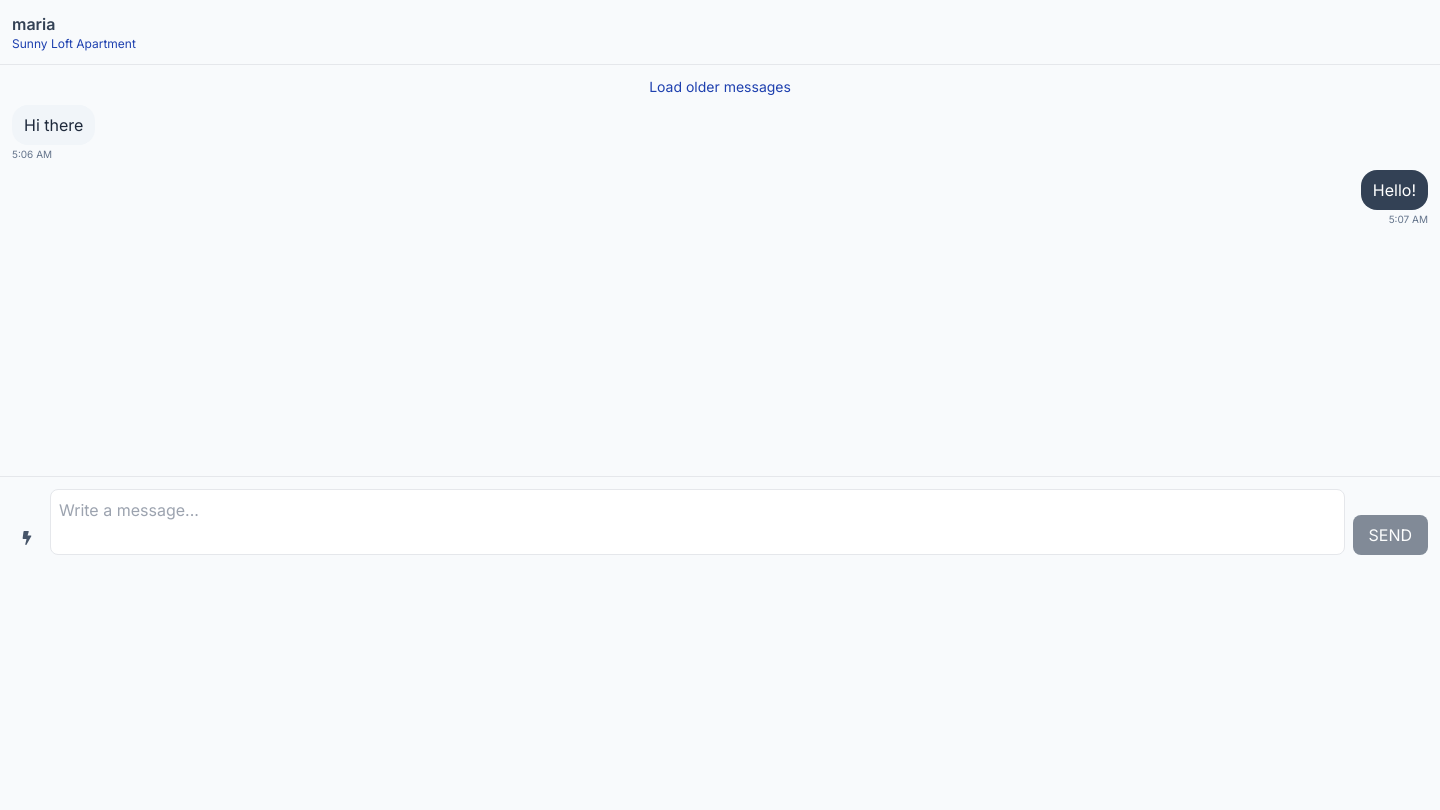
Scenario: ConversationThread › loads older messages
The image size is (1440, 810).
Expected: the text "Hi there" is shown, x1=12 y1=105 x2=95 y2=145
Click the button "Load older messages" at (720, 87), box x1=649 y1=77 x2=791 y2=97
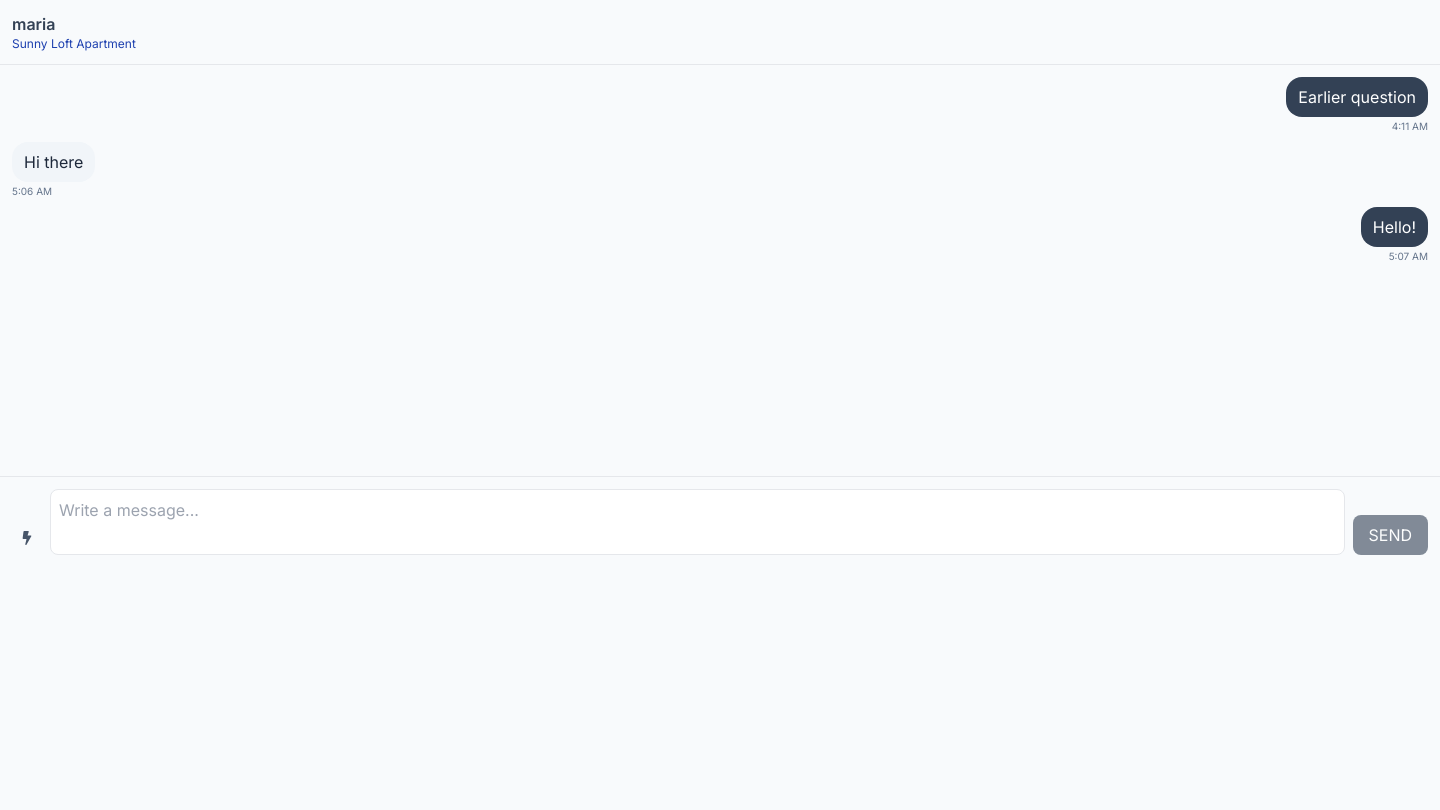
Expected: the text "Earlier question" is shown, x1=1286 y1=77 x2=1428 y2=117
Expected: the button "Load older messages" is gone
